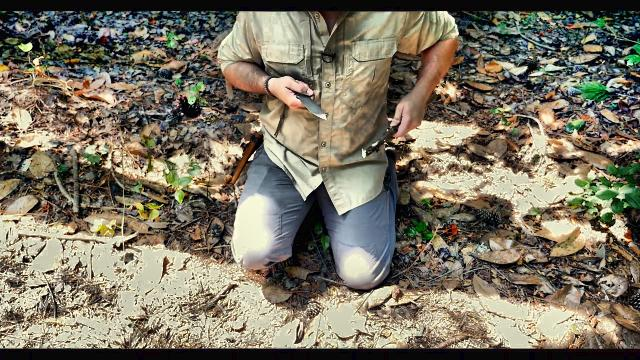knife: (272, 74, 330, 122)
